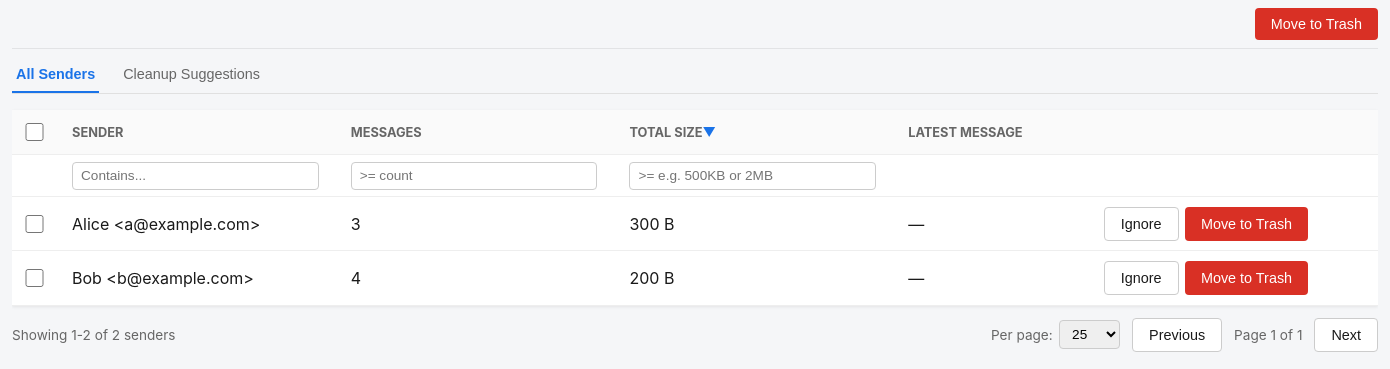
Test: Move to Trash toolbar › shows a working state while bulk trashing, then re-enables the button on success
What coordinates should you click on to do the following:
click the checkbox named "Select Alice"
I would click on:
 (34, 224)
Its box is [25,214,44,233].
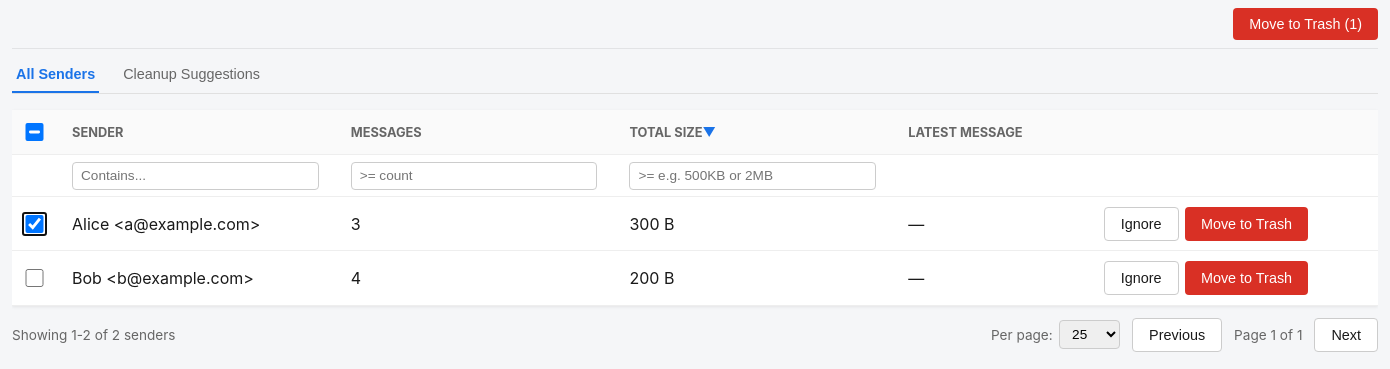
What coordinates should you click on to do the following:
click the button with aria-label "Move selected senders to Trash"
I would click on:
 (1306, 24)
Its box is [1233,8,1378,40].
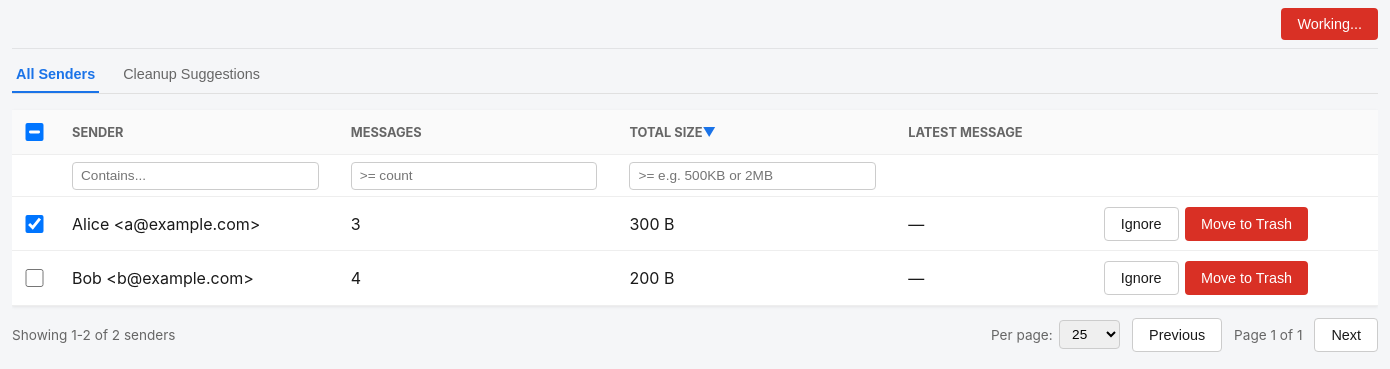
Result: the button with aria-label "Move selected senders to Trash" is disabled at [1282,8,1378,40]
